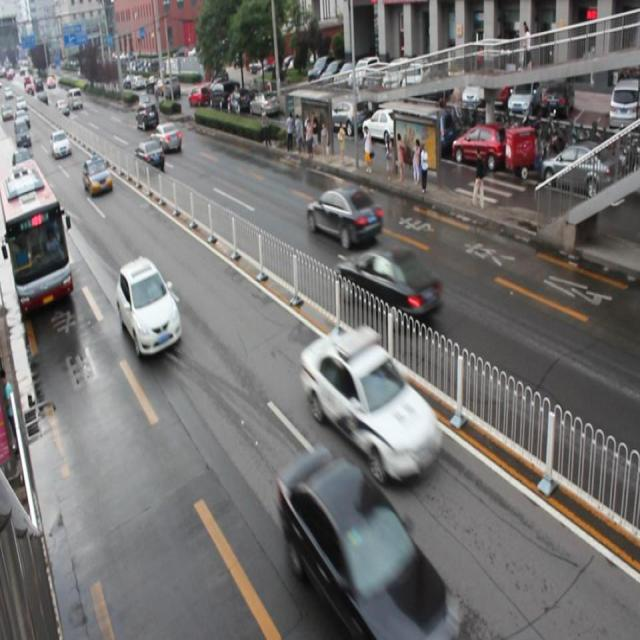car: (276, 451, 454, 640), (300, 325, 440, 486), (334, 246, 443, 328), (116, 258, 181, 360), (306, 187, 381, 247), (82, 155, 113, 195), (133, 139, 164, 173), (150, 122, 182, 154)
van: (1, 162, 73, 307)
